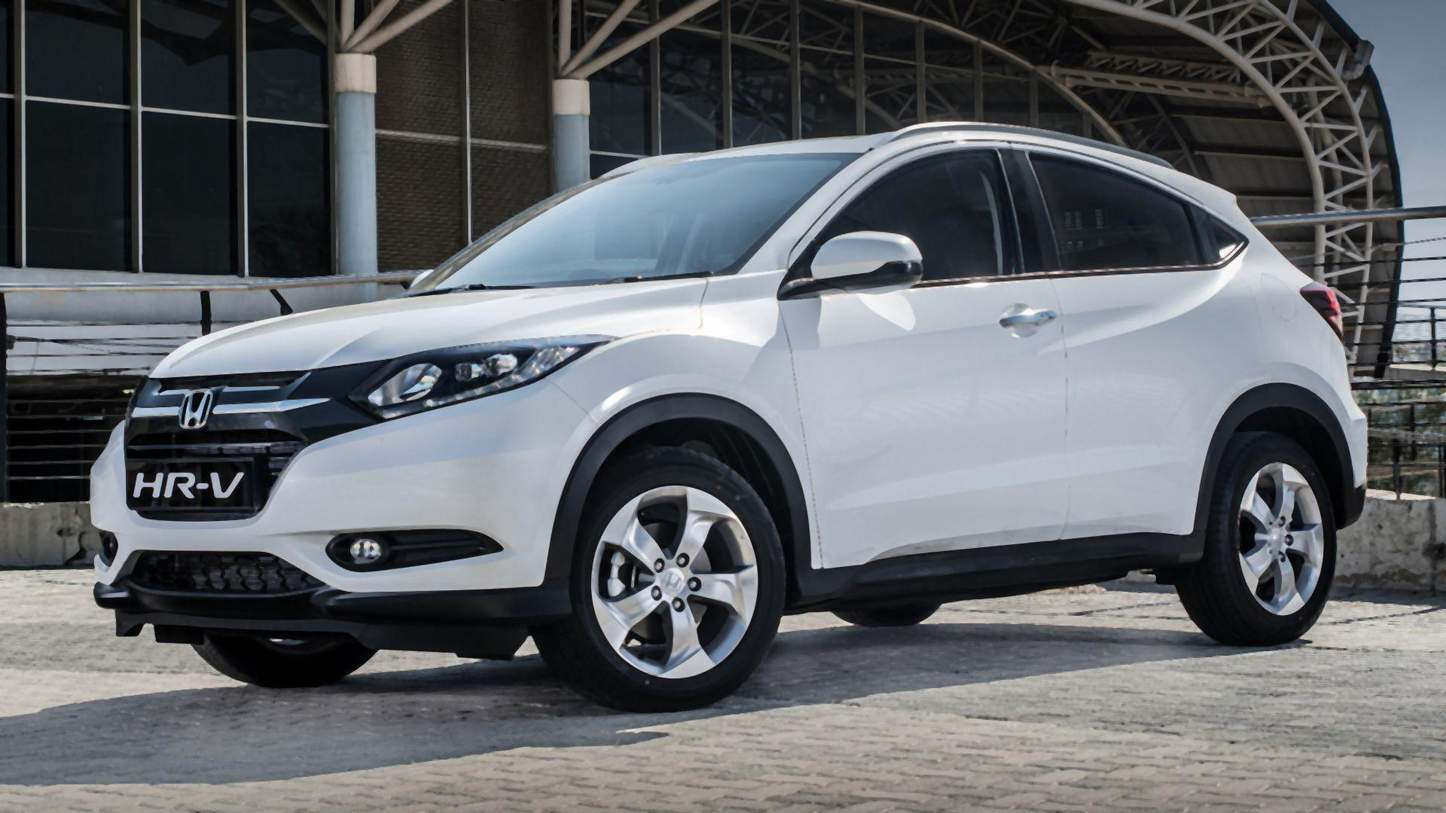Car hood: (148, 271, 726, 382)
Fender - -F-L-: (548, 258, 832, 622)
Fender - -R-L-: (1223, 229, 1354, 448)
Front bumper: (84, 382, 614, 666)
Headlight - -L-: (351, 318, 628, 429)
Passenger-s door - -F-L-: (767, 129, 1074, 568)
Passenger-s door - -R-L-: (1026, 125, 1279, 541)
Rear bumper: (1316, 392, 1390, 548)
Rear light - -L-: (1299, 260, 1364, 350)
Side mirror - -L-: (786, 217, 933, 297)
